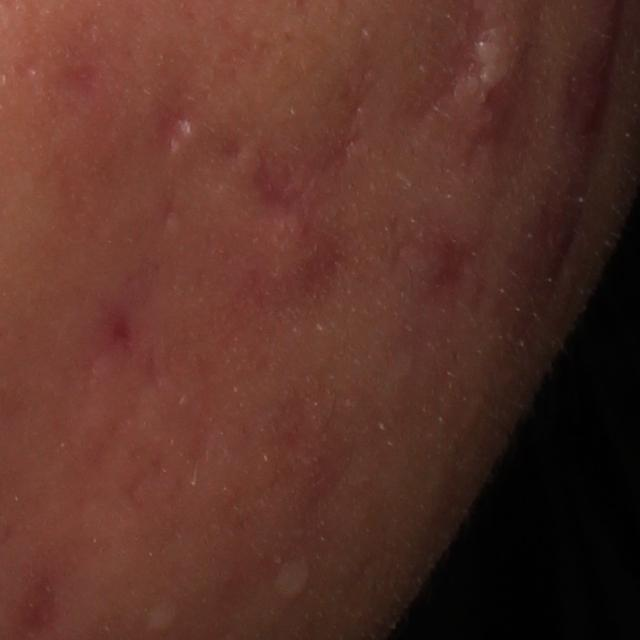atrophic_scar: (247, 89, 372, 295), (462, 44, 553, 191), (81, 265, 151, 378), (426, 234, 481, 297), (152, 103, 197, 157)
hypertrophic_scar: (453, 25, 518, 118)
other: (268, 552, 317, 607), (138, 593, 184, 638)
